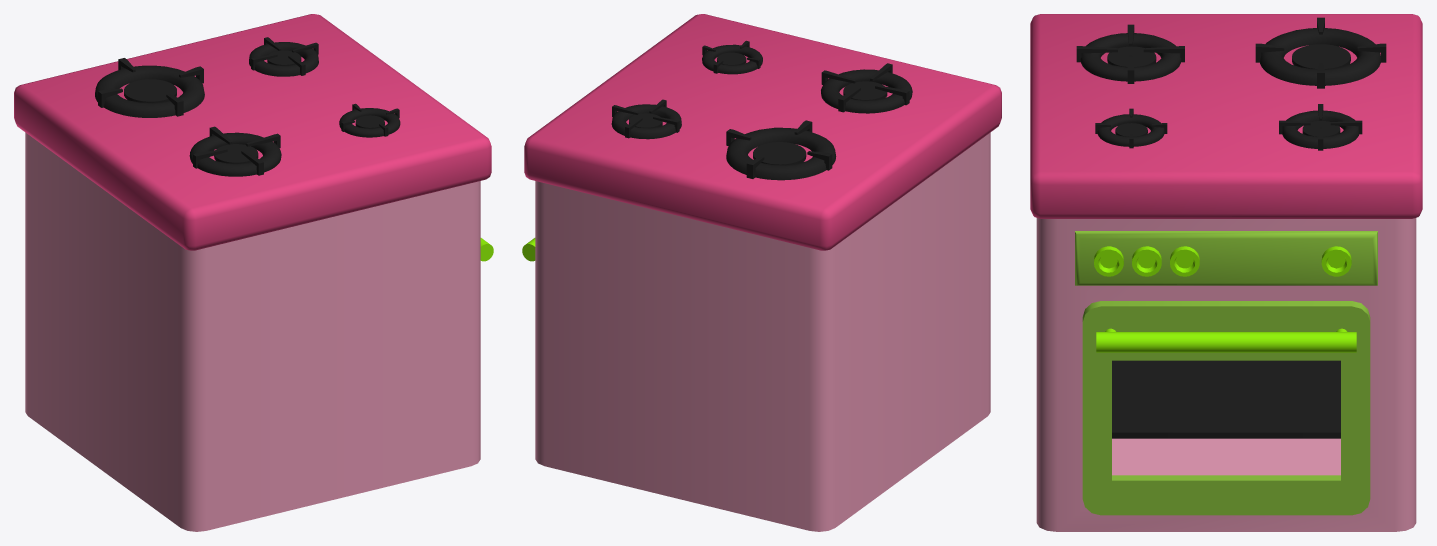
File: furniture_electronics_210038.glb
3 views of the same model, side by side, from view 1: azimuth 30°, elevation 25°; view 2: azimuth 150°, elevation 25°; view 3: azimuth 270°, elevation 25° (orthographic). The views are drawn at different scales.
Visible parts, largest first — view 1: furniture_electronics_210038; view 2: furniture_electronics_210038; view 3: furniture_electronics_210038.
Boxes of the visible parts, x1,y1,x2,y2 form: furniture_electronics_210038: [14, 14, 493, 531]; furniture_electronics_210038: [522, 14, 1001, 531]; furniture_electronics_210038: [1030, 14, 1422, 531].
Size of the model in its own units: 0.8564 by 0.8258 by 0.7842.
Materials: 1 (1 with a texture image).
